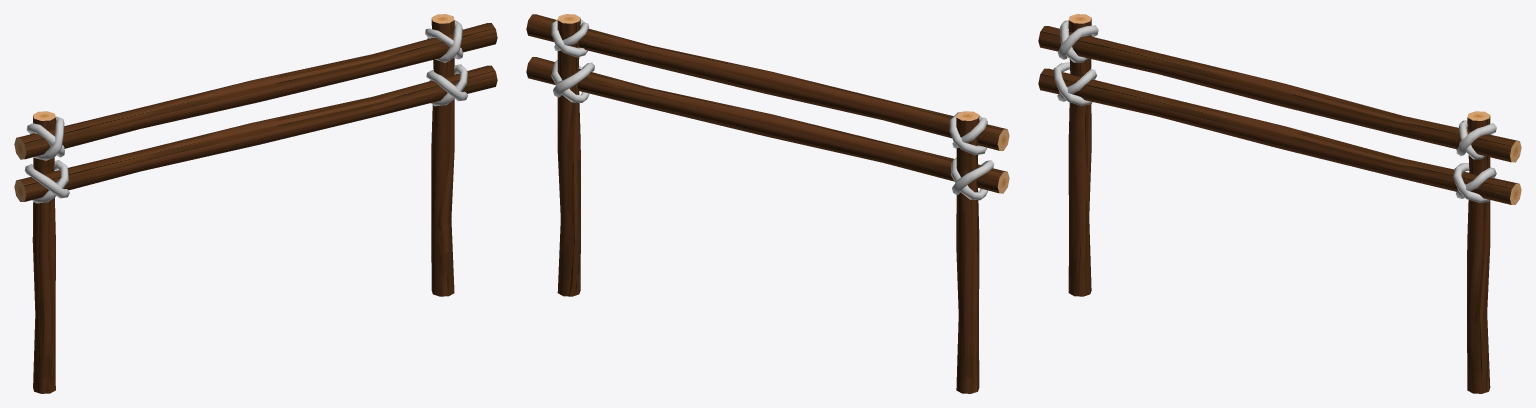
File: signboard_001.fbx
3 renders of one model, left to right at view 1: azimuth 30°, elevation 25°; view 2: azimuth 150°, elevation 25°; view 3: azimuth 330°, elevation 25°, orthographic.
Parts seen in each view (by area): view 1: signboard_001; view 2: signboard_001; view 3: signboard_001.
Boxes of the visible parts, <box> form: signboard_001: <box>14,14,497,393</box>; signboard_001: <box>526,14,1009,393</box>; signboard_001: <box>1038,14,1521,393</box>.
Bounding box in the file's own units: 961 × 92.99 × 532.
